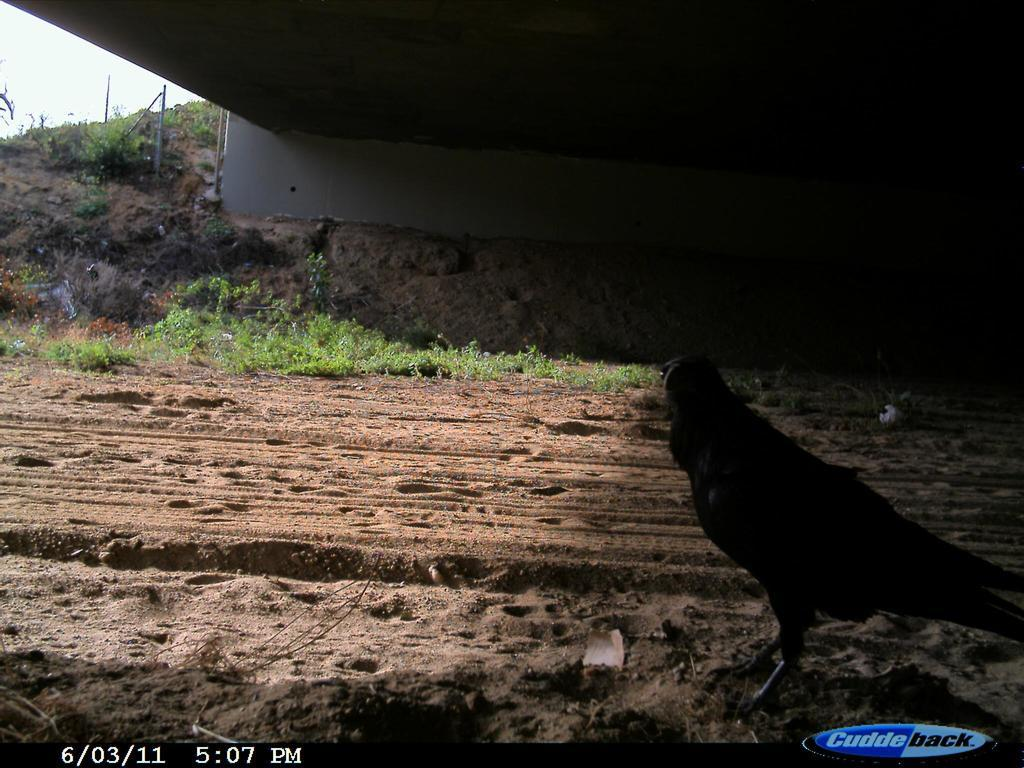bird: (650, 341, 1023, 729)
